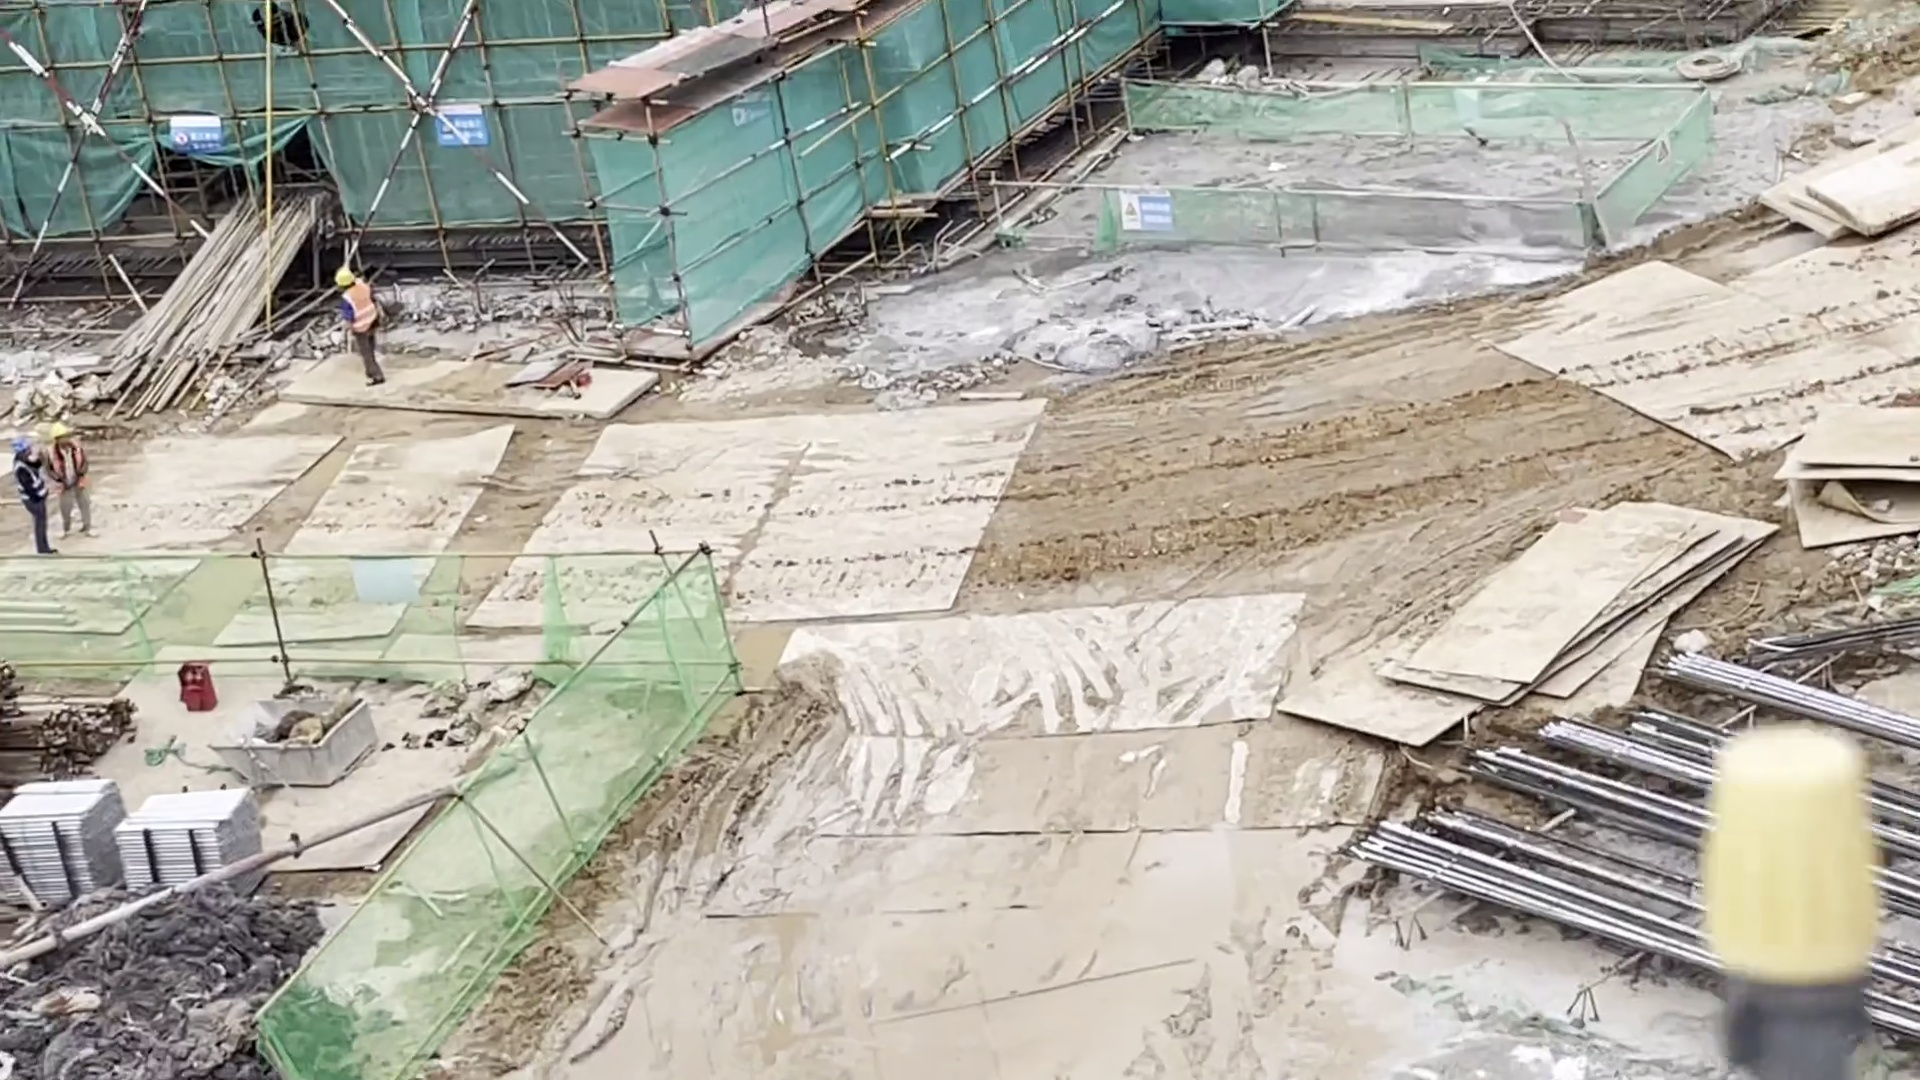helmet: (49, 415, 73, 443), (338, 267, 357, 287), (11, 435, 31, 455)
hopper: (215, 679, 389, 783)
person: (338, 253, 387, 392), (44, 417, 91, 541), (11, 429, 53, 562)
rebar: (1419, 751, 1920, 952)
scaffold: (1, 778, 259, 897)
vest: (339, 292, 378, 331), (17, 460, 41, 516), (55, 449, 83, 492)
